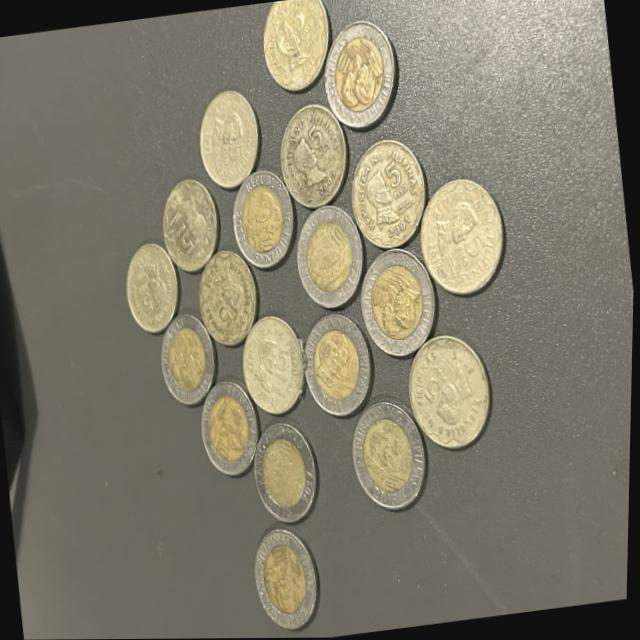10_Old_Front: (329, 30, 389, 116), (368, 257, 426, 338), (363, 417, 417, 496), (301, 218, 356, 294), (205, 394, 264, 464), (260, 545, 317, 615), (236, 185, 287, 261), (314, 330, 363, 409), (261, 436, 314, 509), (166, 326, 209, 396)
5_Old_Front: (411, 342, 481, 431), (429, 191, 496, 281), (126, 240, 180, 328), (204, 256, 259, 337), (165, 191, 225, 264), (359, 154, 414, 233), (266, 0, 319, 81), (245, 330, 304, 402), (204, 104, 258, 179), (289, 122, 343, 193)
